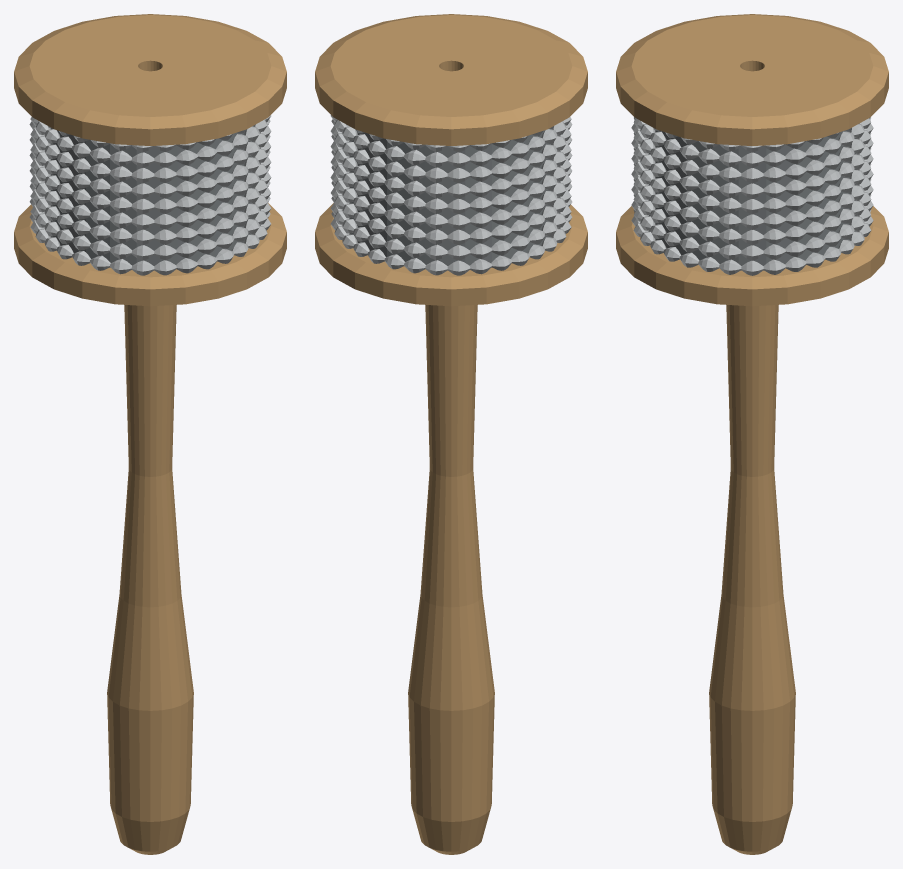
The model's file is full.glb.
The picture shows the model from 3 angles, left to right: view 1: azimuth 30°, elevation 25°; view 2: azimuth 150°, elevation 25°; view 3: azimuth 270°, elevation 25°; orthographic projection.
Parts seen in each view (by area): view 1: Bulb wooden handle, Front wood flange, Rear wood flange, Corrugated metal backing, Continuous bead chain row 4, Continuous bead chain row 3, Continuous bead chain row 1, Continuous bead chain row 6, Continuous bead chain row 2, Continuous bead chain row 5, Continuous bead chain row 0, Continuous bead chain row 7 (+1 smaller); view 2: Bulb wooden handle, Front wood flange, Rear wood flange, Corrugated metal backing, Continuous bead chain row 4, Continuous bead chain row 3, Continuous bead chain row 1, Continuous bead chain row 6, Continuous bead chain row 2, Continuous bead chain row 5, Continuous bead chain row 0, Continuous bead chain row 7 (+1 smaller); view 3: Bulb wooden handle, Front wood flange, Rear wood flange, Corrugated metal backing, Continuous bead chain row 5, Continuous bead chain row 3, Continuous bead chain row 1, Continuous bead chain row 4, Continuous bead chain row 6, Continuous bead chain row 2, Continuous bead chain row 0, Continuous bead chain row 7 (+1 smaller).
Boxes of the visible parts, x1=… form: Bulb wooden handle: x1=107, y1=305, x2=193, y2=854; Front wood flange: x1=14, y1=14, x2=286, y2=145; Rear wood flange: x1=14, y1=203, x2=286, y2=306; Corrugated metal backing: x1=50, y1=128, x2=252, y2=265; Continuous bead chain row 4: x1=29, y1=150, x2=271, y2=214; Continuous bead chain row 3: x1=29, y1=165, x2=271, y2=229; Continuous bead chain row 1: x1=29, y1=196, x2=271, y2=260; Continuous bead chain row 6: x1=29, y1=119, x2=271, y2=183; Continuous bead chain row 2: x1=29, y1=181, x2=270, y2=245; Continuous bead chain row 5: x1=29, y1=134, x2=271, y2=198; Continuous bead chain row 0: x1=29, y1=212, x2=271, y2=275; Continuous bead chain row 7: x1=30, y1=115, x2=271, y2=167; Bulb wooden handle: x1=408, y1=305, x2=494, y2=854; Front wood flange: x1=315, y1=14, x2=587, y2=145; Rear wood flange: x1=315, y1=203, x2=587, y2=306; Corrugated metal backing: x1=349, y1=128, x2=551, y2=265; Continuous bead chain row 4: x1=330, y1=150, x2=572, y2=214; Continuous bead chain row 3: x1=330, y1=165, x2=572, y2=229; Continuous bead chain row 1: x1=330, y1=196, x2=572, y2=260; Continuous bead chain row 6: x1=330, y1=119, x2=572, y2=183; Continuous bead chain row 2: x1=331, y1=181, x2=572, y2=245; Continuous bead chain row 5: x1=330, y1=134, x2=572, y2=198; Continuous bead chain row 0: x1=330, y1=212, x2=572, y2=275; Continuous bead chain row 7: x1=330, y1=115, x2=571, y2=167; Bulb wooden handle: x1=709, y1=305, x2=795, y2=854; Front wood flange: x1=616, y1=14, x2=888, y2=145; Rear wood flange: x1=616, y1=206, x2=888, y2=306; Corrugated metal backing: x1=648, y1=130, x2=856, y2=270; Continuous bead chain row 5: x1=631, y1=132, x2=873, y2=198; Continuous bead chain row 3: x1=631, y1=163, x2=873, y2=229; Continuous bead chain row 1: x1=631, y1=194, x2=873, y2=260; Continuous bead chain row 4: x1=631, y1=148, x2=873, y2=214; Continuous bead chain row 6: x1=631, y1=117, x2=873, y2=183; Continuous bead chain row 2: x1=631, y1=179, x2=873, y2=245; Continuous bead chain row 0: x1=631, y1=210, x2=873, y2=275; Continuous bead chain row 7: x1=633, y1=118, x2=871, y2=167.
Bounding box in the file's own units: 0.088 × 0.278 × 0.088.
